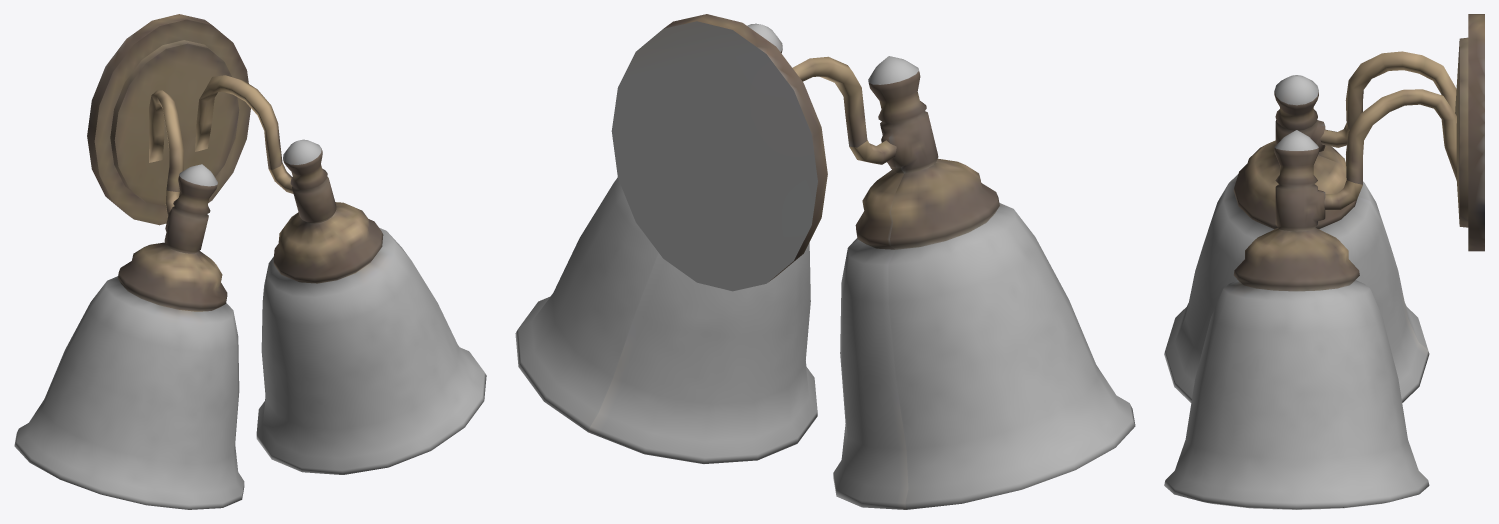
Rendered from Lamp_Wall_Toilet.FBX.
The picture shows the model from 3 angles, left to right: view 1: azimuth 30°, elevation 25°; view 2: azimuth 150°, elevation 25°; view 3: azimuth 270°, elevation 25°; orthographic projection. The views are drawn at different scales.
Visible parts, largest first — view 1: Lamp_Wall_Toilet; view 2: Lamp_Wall_Toilet; view 3: Lamp_Wall_Toilet.
Part boxes in pixels (<box>): Lamp_Wall_Toilet: <box>14,14,486,509</box>; Lamp_Wall_Toilet: <box>515,14,1135,509</box>; Lamp_Wall_Toilet: <box>1164,14,1484,509</box>.
Bounding box in the file's own units: 35.24 × 29.4 × 19.93.
